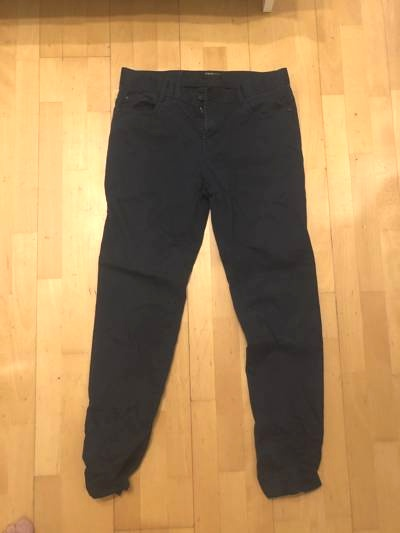Pants: (64, 37, 354, 502)
